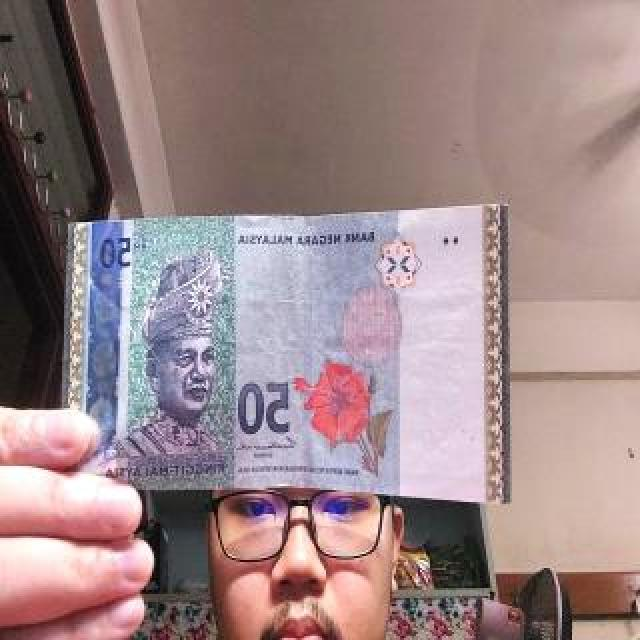50 Ringgit: (66, 210, 509, 505)
